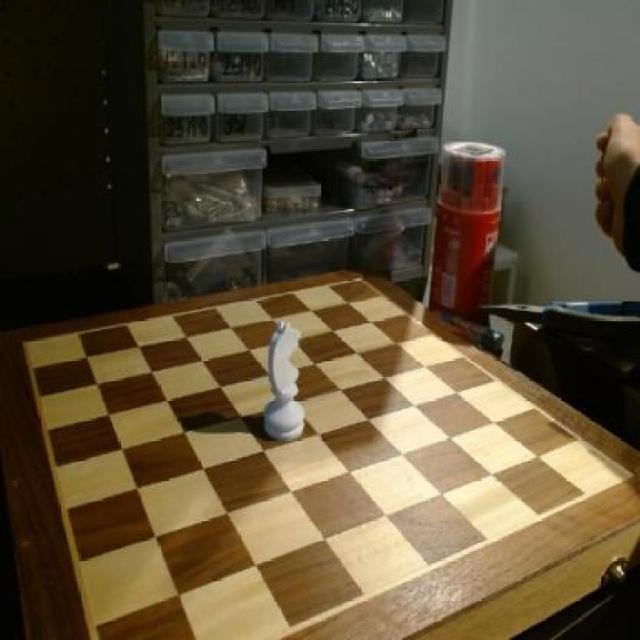white-king: (262, 314, 310, 450)
